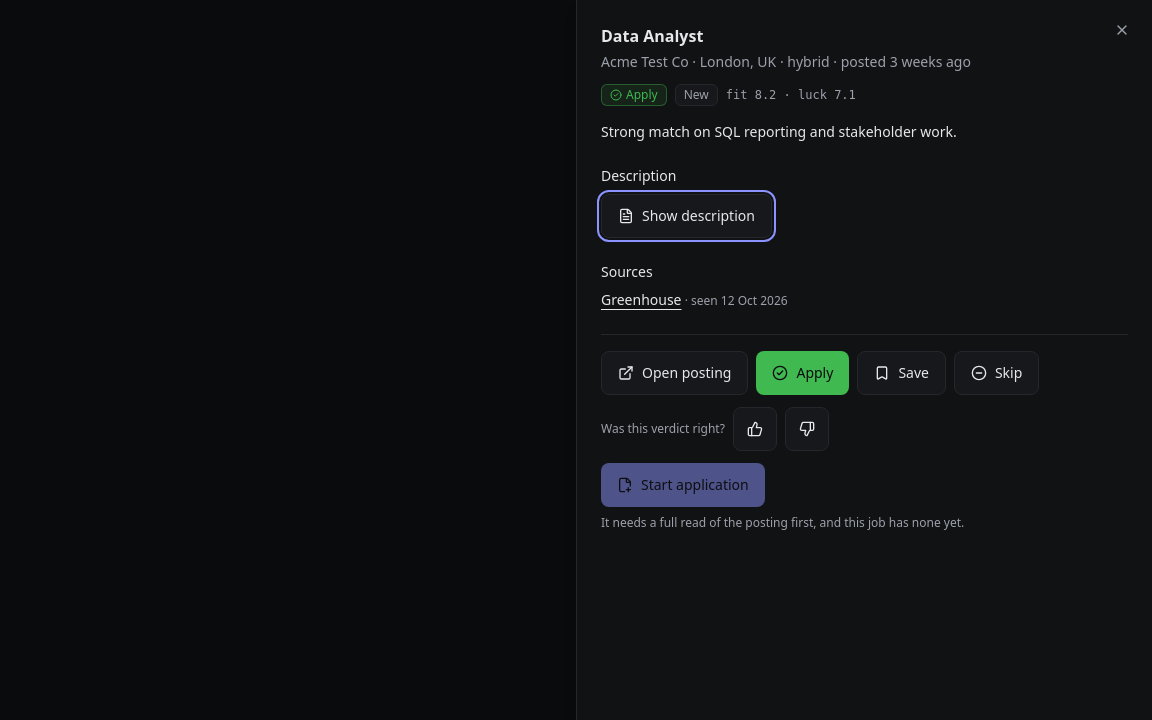
JobDetail › says a purged description was deleted after 60 days, not that none was stored
Click the button "Show description" at (686, 216), box [601, 194, 772, 238]
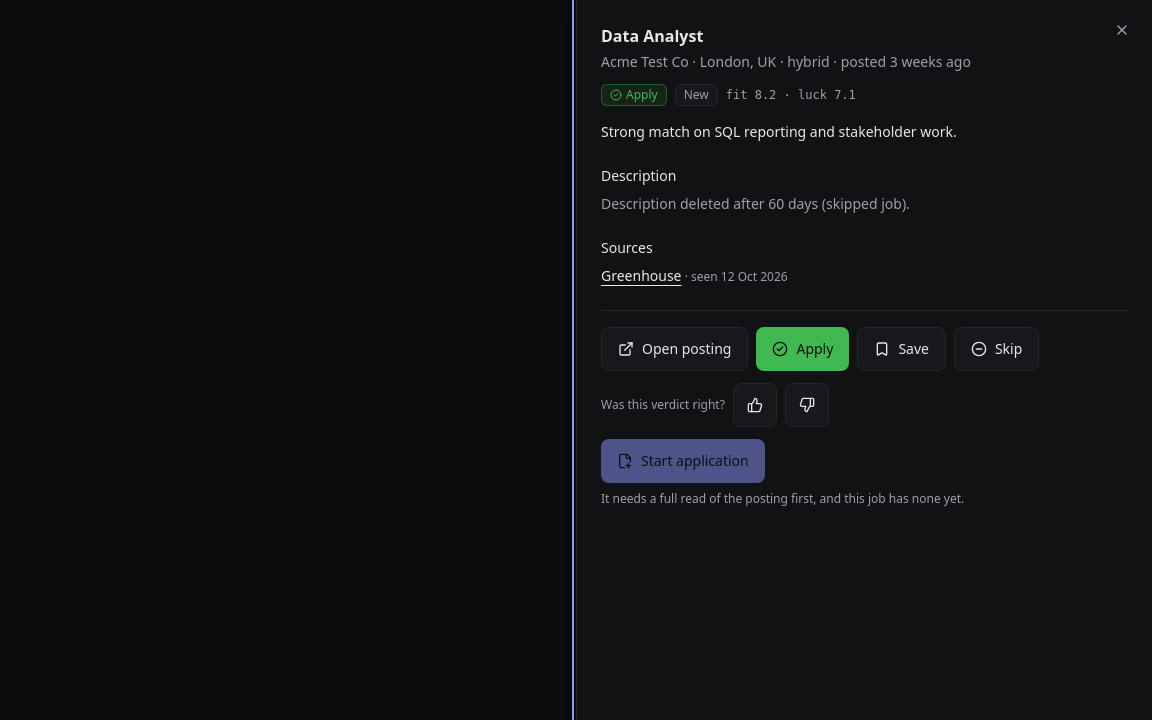
Expected: the text "Description deleted after 60 days (skipped job)." is shown, [601, 194, 910, 213]
